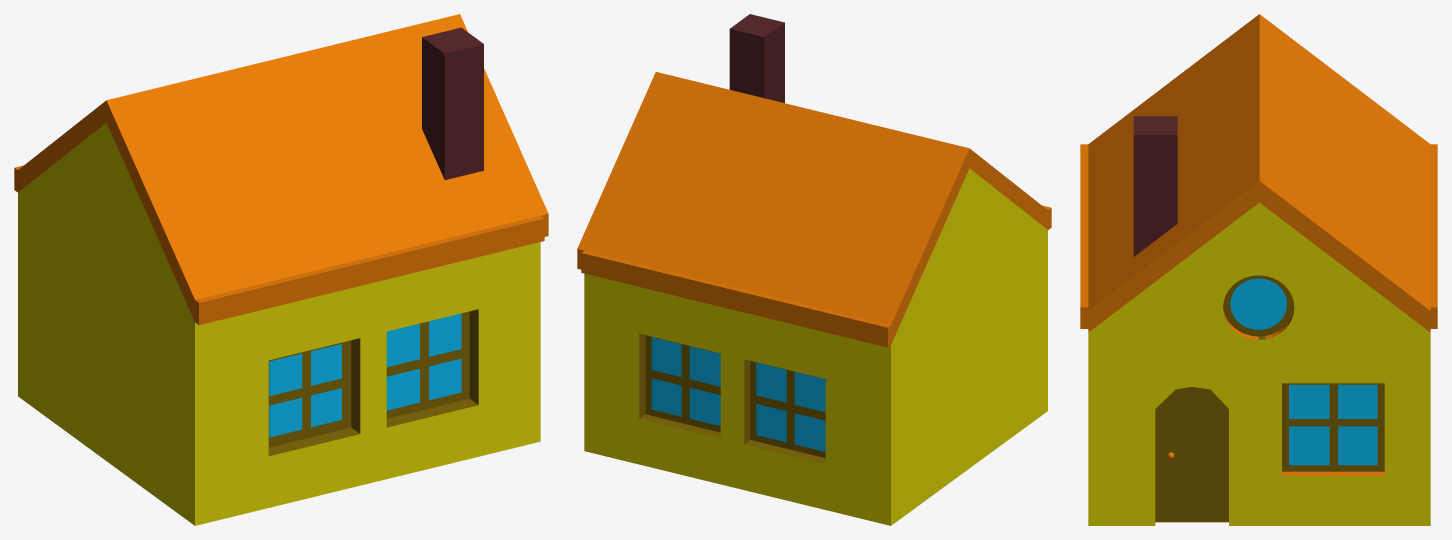
The model's file is Yellow House 1.fbx.
3 renders of one model, left to right at view 1: azimuth 30°, elevation 25°; view 2: azimuth 150°, elevation 25°; view 3: azimuth 270°, elevation 25°, orthographic. The views are drawn at different scales.
Visible parts, largest first — view 1: Cube, Cube.002; view 2: Cube, Cube.002; view 3: Cube, Cube.002.
Part boxes in pixels (x1=…): Cube: x1=14, y1=14, x2=548, y2=525; Cube.002: x1=422, y1=27, x2=483, y2=179; Cube: x1=577, y1=72, x2=1051, y2=525; Cube.002: x1=729, y1=14, x2=784, y2=102; Cube: x1=1080, y1=14, x2=1437, y2=525; Cube.002: x1=1133, y1=116, x2=1177, y2=256.
Bounding box in the file's own units: 258 × 271 × 234.
